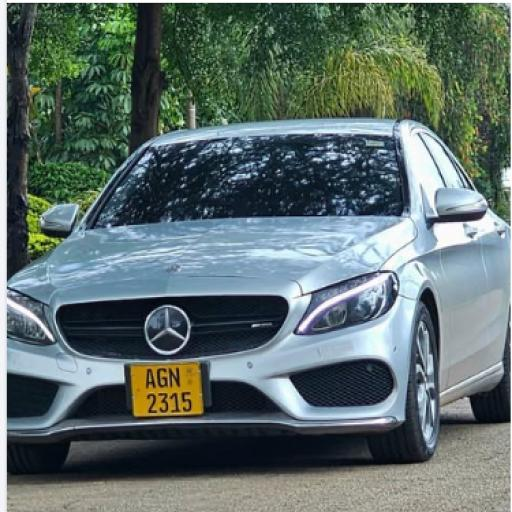number-plates: (126, 360, 196, 414)
